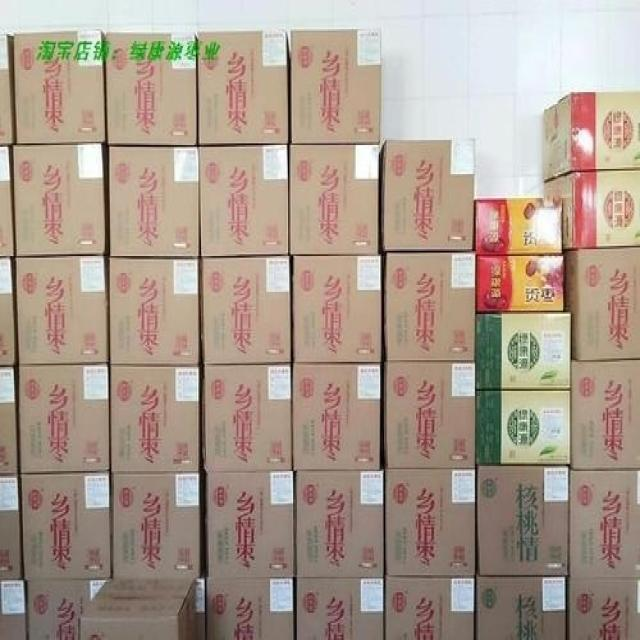box: (103, 30, 197, 148), (11, 145, 110, 257), (379, 140, 475, 253), (197, 31, 291, 145), (14, 30, 106, 144), (290, 29, 381, 143), (199, 144, 289, 259), (199, 255, 292, 366), (288, 143, 378, 256), (110, 472, 205, 579), (383, 469, 477, 577), (16, 255, 109, 364), (382, 253, 475, 361), (477, 468, 569, 577), (110, 366, 204, 472), (18, 364, 110, 472), (109, 147, 199, 257), (294, 469, 384, 579), (109, 256, 200, 364), (292, 255, 382, 363), (383, 362, 475, 467), (205, 470, 295, 577), (292, 364, 383, 469), (19, 474, 109, 578), (202, 365, 291, 470), (543, 90, 639, 183), (563, 247, 639, 362), (570, 353, 639, 468), (543, 169, 639, 250), (569, 469, 639, 579), (476, 314, 571, 390), (79, 577, 197, 638), (476, 391, 569, 467), (476, 576, 567, 638), (384, 579, 476, 638), (205, 579, 295, 638), (475, 254, 564, 312), (296, 580, 383, 638), (25, 579, 108, 638), (474, 200, 561, 253), (566, 579, 639, 638), (0, 476, 21, 581), (0, 366, 19, 473), (0, 145, 17, 258), (0, 257, 17, 367), (0, 37, 15, 146), (195, 578, 206, 638)
